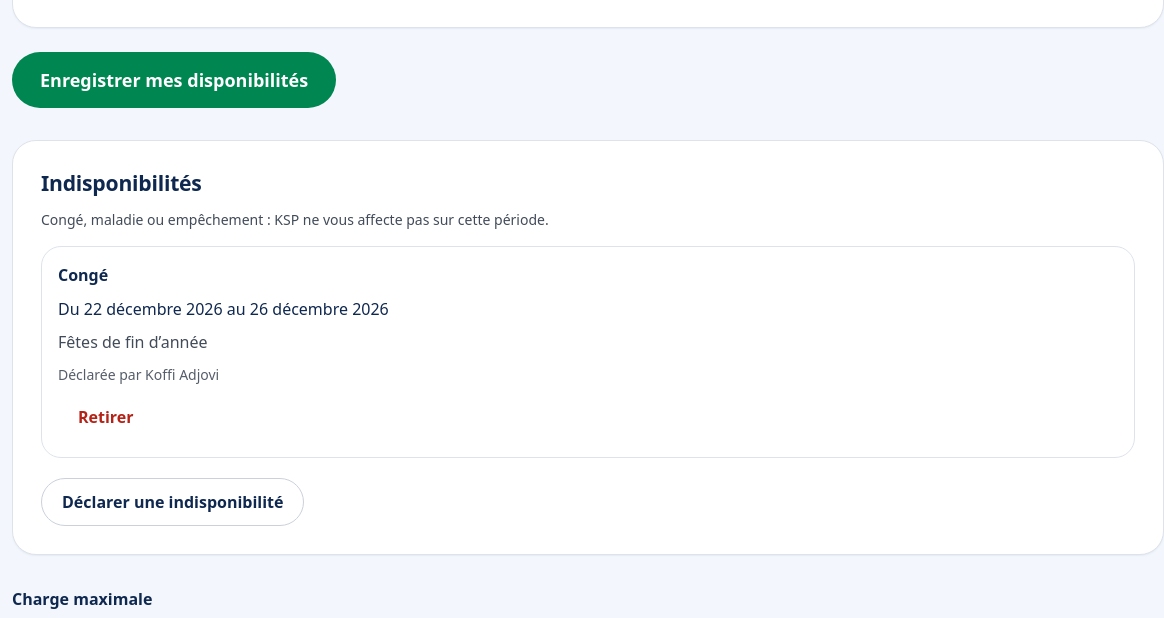
Test: indisponibilités › retire une indisponibilité après confirmation
The width and height of the screenshot is (1164, 618).
(page scrolled)
Click the button "Retirer" at (106, 417), box x1=58 y1=393 x2=154 y2=441
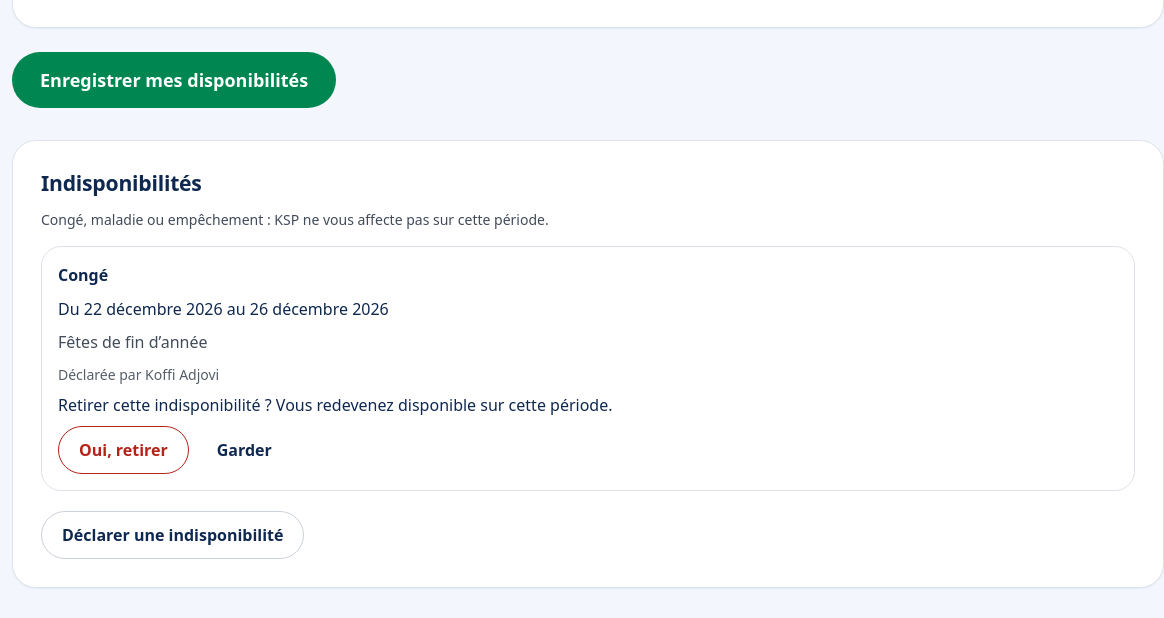
Click the button "Oui, retirer" at (123, 450), box x1=58 y1=426 x2=189 y2=474
(page scrolled)
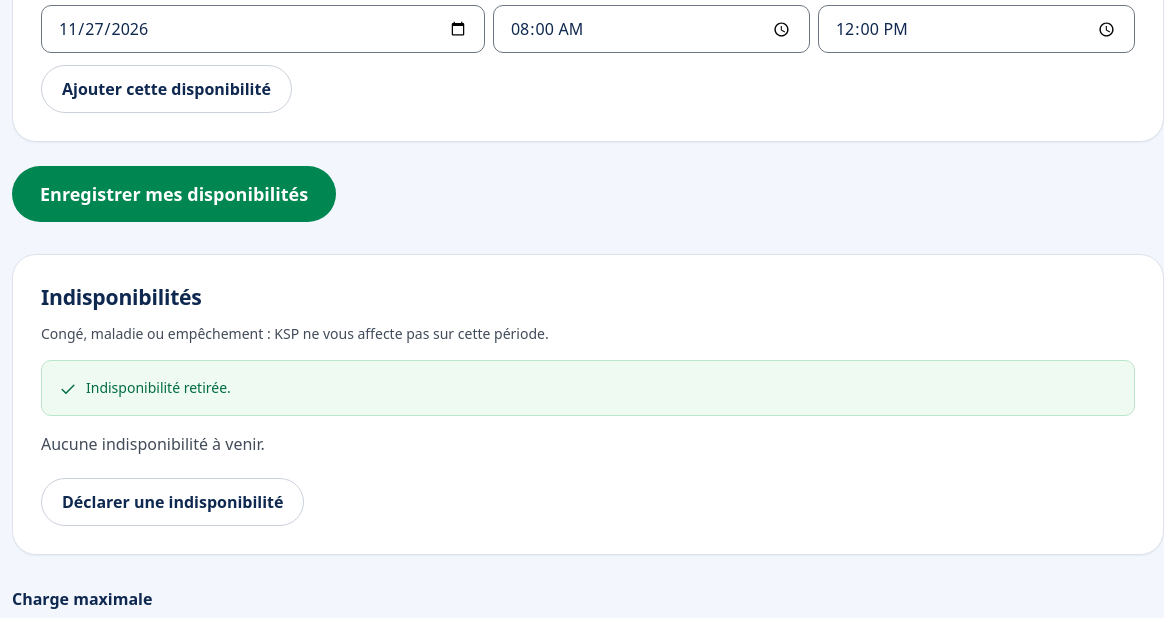
Now the text "Indisponibilité retirée." is shown, box x1=86 y1=377 x2=231 y2=398
Now the text "Aucune indisponibilité à venir." is shown, box x1=41 y1=433 x2=265 y2=455
